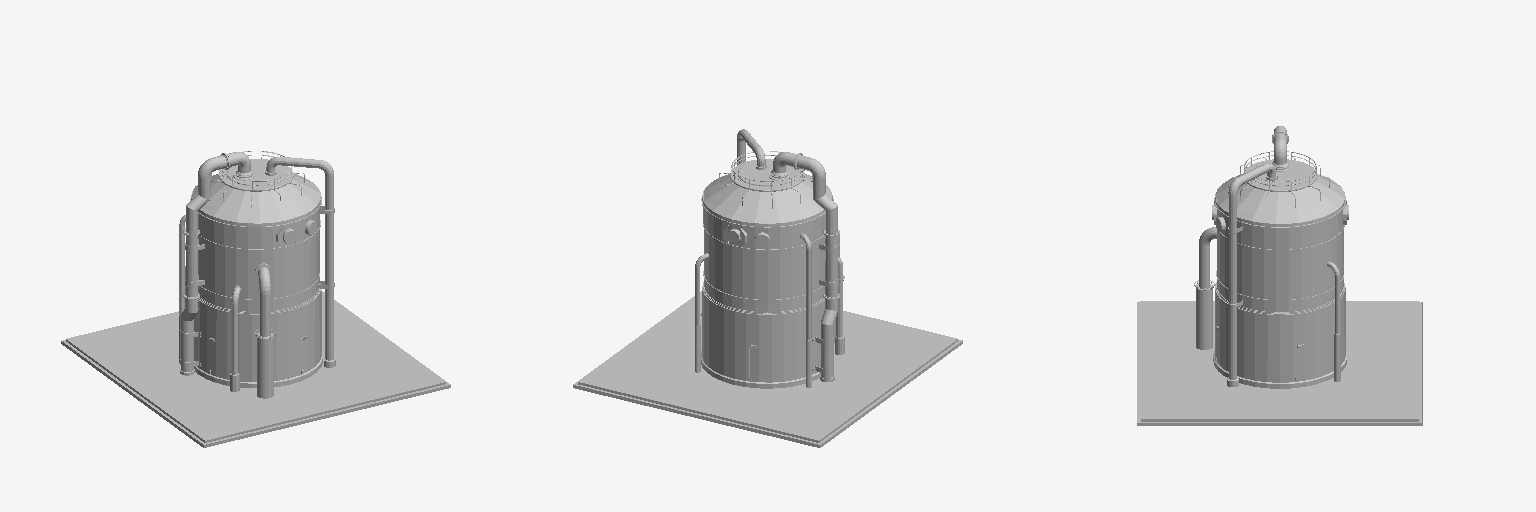
The model's file is TanqueAlmacenamiento.obj.
The picture shows the model from 3 angles: view 1: azimuth 30°, elevation 25°; view 2: azimuth 150°, elevation 25°; view 3: azimuth 270°, elevation 25°; orthographic projection.
Visible parts, largest first — view 1: Plane.002, mesh0.022, mesh0.003, mesh0.010, mesh0.020, Plane.001, mesh0.008, mesh0.004, mesh0.012, mesh0.009, mesh0.021; view 2: Plane.002, mesh0.022, mesh0.003, mesh0.010, Plane.001, mesh0.008, mesh0.021, mesh0.020, mesh0.009; view 3: Plane.002, mesh0.022, mesh0.003, mesh0.020, Plane.001, mesh0.008, mesh0.004, mesh0.012, mesh0.010.
Boxes of the visible parts, x1,y1,x2,y2 form: Plane.002: [66, 291, 445, 442]; mesh0.022: [185, 174, 334, 313]; mesh0.003: [194, 289, 322, 387]; mesh0.010: [180, 152, 254, 375]; mesh0.020: [265, 157, 335, 367]; Plane.001: [61, 290, 450, 447]; mesh0.008: [219, 159, 293, 191]; mesh0.004: [257, 332, 273, 398]; mesh0.012: [255, 263, 271, 336]; mesh0.009: [230, 285, 241, 391]; mesh0.021: [179, 215, 185, 315]; Plane.002: [578, 291, 957, 442]; mesh0.022: [701, 174, 838, 313]; mesh0.003: [701, 282, 824, 388]; mesh0.010: [769, 152, 839, 381]; Plane.001: [573, 297, 962, 447]; mesh0.008: [730, 159, 804, 191]; mesh0.021: [800, 233, 811, 339]; mesh0.020: [737, 129, 766, 169]; mesh0.009: [835, 257, 844, 354]; Plane.002: [1140, 301, 1418, 421]; mesh0.022: [1212, 174, 1348, 314]; mesh0.003: [1213, 282, 1346, 388]; mesh0.020: [1227, 163, 1277, 386]; Plane.001: [1137, 302, 1422, 425]; mesh0.008: [1243, 159, 1317, 191]; mesh0.004: [1196, 284, 1212, 349]; mesh0.012: [1199, 227, 1216, 287]; mesh0.010: [1272, 126, 1290, 171].
Size of the model in its own units: 4.49 by 3.82 by 4.5.